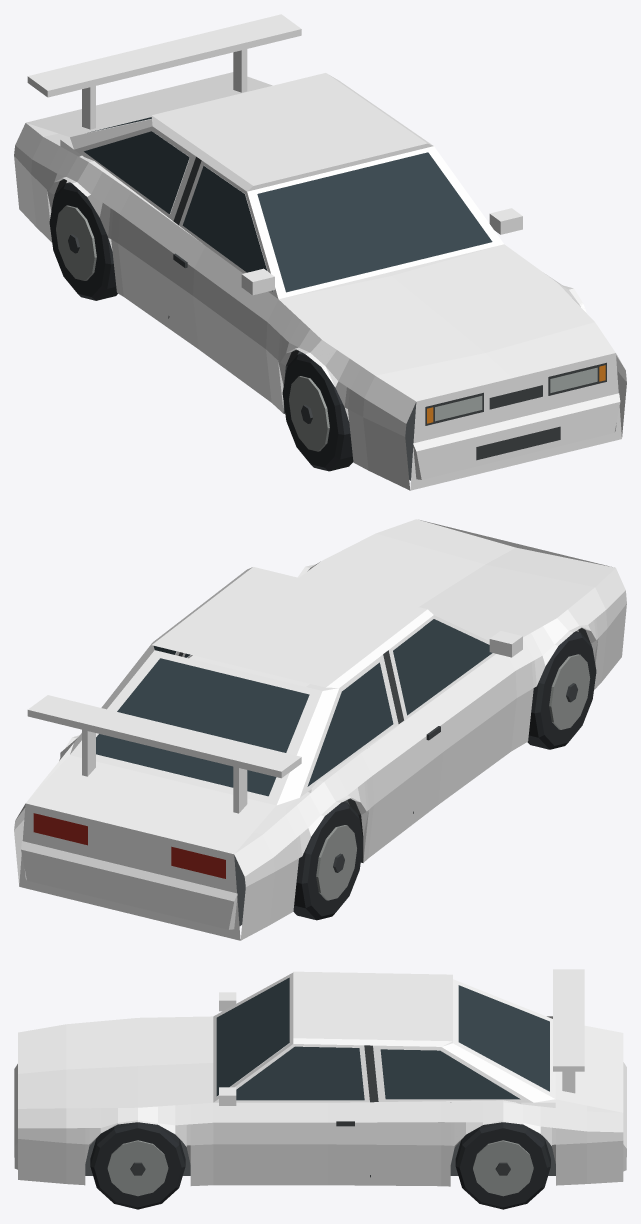
The model's file is hayase_tokage_corrida.glb.
3 renders of one model, top to bottom at view 1: azimuth 30°, elevation 25°; view 2: azimuth 150°, elevation 25°; view 3: azimuth 270°, elevation 25°, orthographic. The views are drawn at different scales.
Parts seen in each view (by area): view 1: hayase_tokage_corrida; view 2: hayase_tokage_corrida; view 3: hayase_tokage_corrida.
Part boxes in pixels (x1,y1,x2,y2): hayase_tokage_corrida: (14,14,626,490); hayase_tokage_corrida: (14,519,626,940); hayase_tokage_corrida: (14,969,626,1209).
Size of the model in its own units: 1.7 by 1.2 by 4.26.
Materials: 8 (1 with a texture image).
